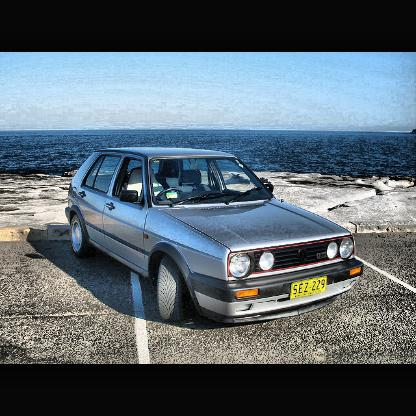Volkswagen Golf Hatchback 1991: (66, 147, 364, 327)
